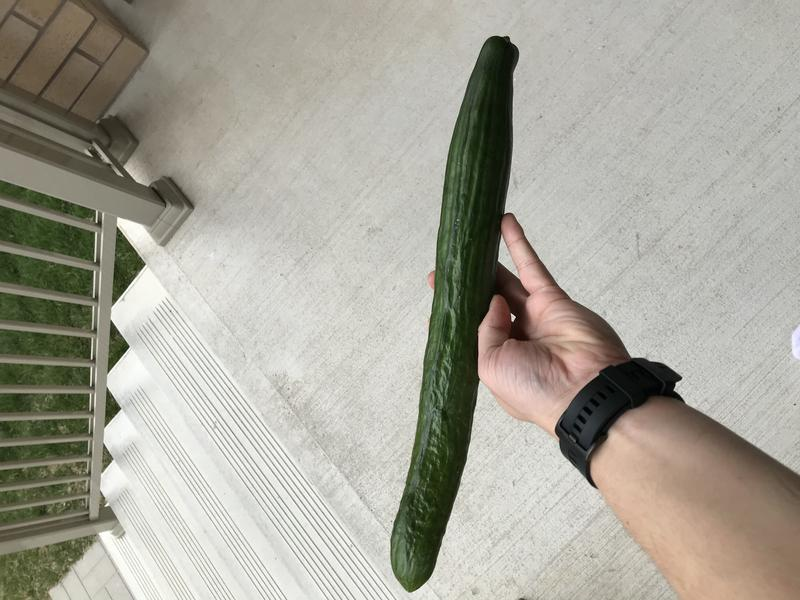cucumber: (385, 22, 527, 600)
